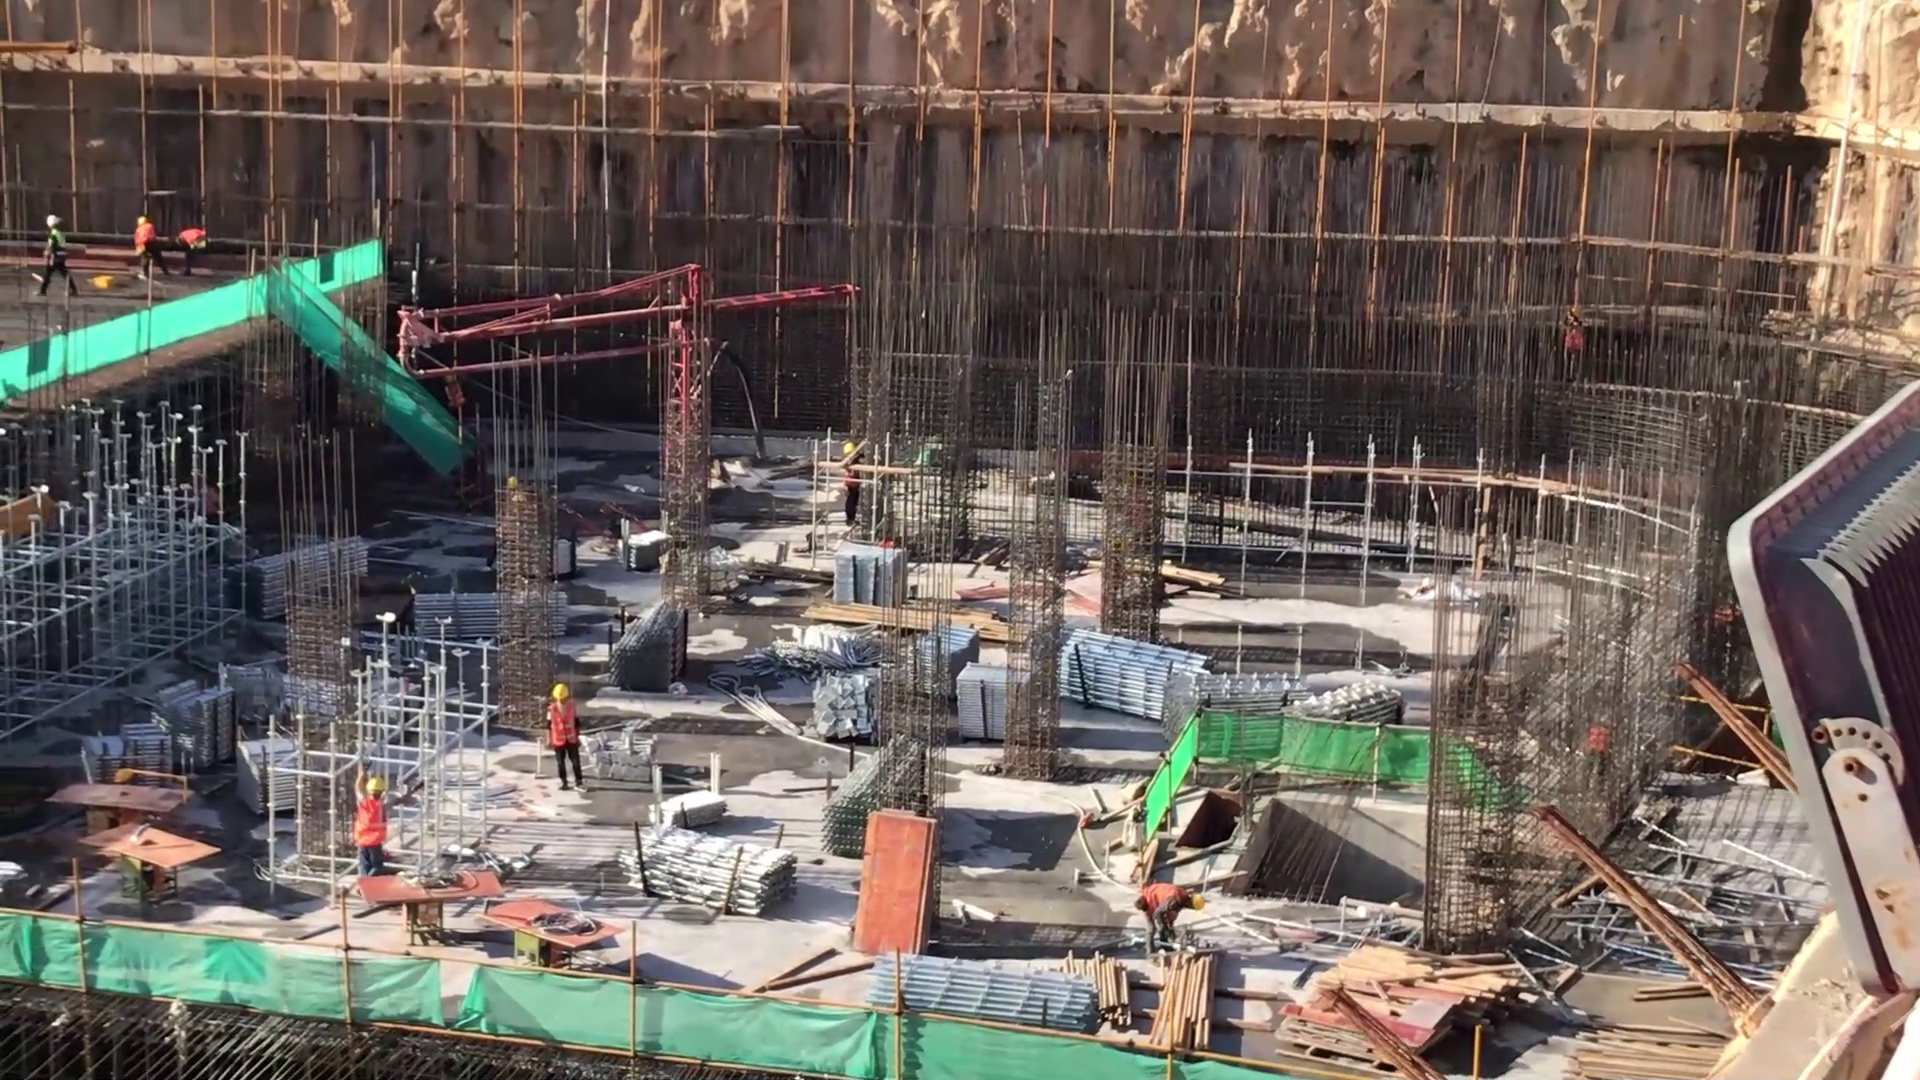board: (1268, 974, 1474, 1064), (850, 803, 946, 958)
cutter: (342, 855, 504, 946), (68, 820, 223, 903), (483, 898, 636, 971), (44, 782, 191, 831)
helmet: (366, 776, 389, 800), (552, 679, 573, 705), (1188, 890, 1209, 917), (43, 211, 64, 231), (844, 434, 859, 459), (135, 216, 149, 230)
person: (1129, 867, 1210, 969), (543, 676, 592, 797), (828, 427, 870, 554), (359, 764, 392, 905), (34, 204, 80, 305), (125, 201, 164, 287), (173, 219, 214, 271)
scaffold: (868, 941, 1099, 1054), (1050, 630, 1197, 730), (233, 533, 383, 622), (68, 712, 174, 815), (232, 731, 332, 828), (401, 585, 589, 635), (168, 664, 238, 779), (611, 604, 694, 694), (898, 626, 986, 702)
vest: (1138, 876, 1189, 937), (543, 702, 585, 756), (359, 791, 387, 856), (47, 229, 71, 273), (439, 379, 468, 408), (181, 229, 204, 250)
wood: (1552, 1024, 1757, 1080)
